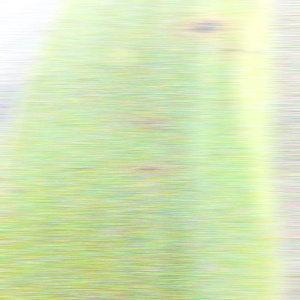Bacterial_Leaf_Blight: (188, 14, 225, 38), (133, 112, 166, 132), (134, 159, 164, 176), (0, 184, 29, 195), (0, 203, 16, 220), (51, 271, 73, 282), (229, 121, 251, 132), (221, 43, 241, 55), (62, 251, 82, 263), (121, 187, 145, 197), (243, 45, 261, 58), (90, 282, 113, 292), (160, 275, 181, 285), (173, 133, 194, 143), (186, 272, 208, 281), (73, 162, 92, 172), (218, 93, 235, 104), (148, 222, 168, 231), (48, 79, 65, 88), (115, 290, 134, 298), (32, 259, 47, 269), (32, 98, 50, 106), (211, 149, 228, 157), (21, 271, 38, 279), (120, 118, 135, 127), (82, 74, 97, 83), (31, 53, 44, 63), (0, 174, 16, 182), (110, 175, 124, 184), (21, 123, 34, 132), (198, 121, 211, 130), (151, 83, 164, 92), (106, 266, 121, 273), (251, 64, 266, 71), (38, 171, 51, 179), (28, 77, 41, 85), (123, 162, 137, 169), (200, 73, 212, 81), (60, 122, 73, 129), (84, 87, 96, 94), (11, 137, 23, 144), (87, 97, 97, 105), (12, 119, 23, 126), (108, 98, 120, 104), (166, 13, 176, 20), (203, 106, 213, 113), (66, 87, 77, 93), (43, 119, 56, 124), (94, 85, 102, 92), (54, 46, 61, 51)
